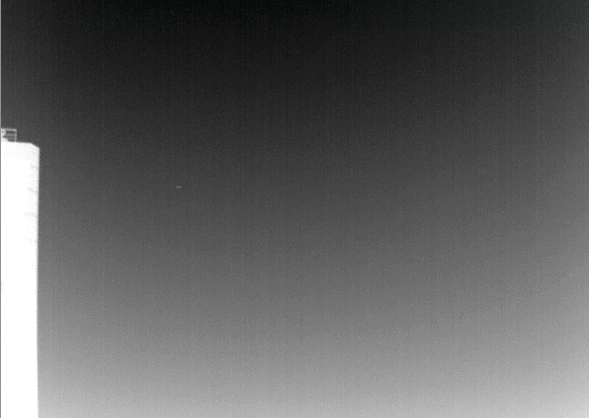dim target: (175, 185, 181, 189)
